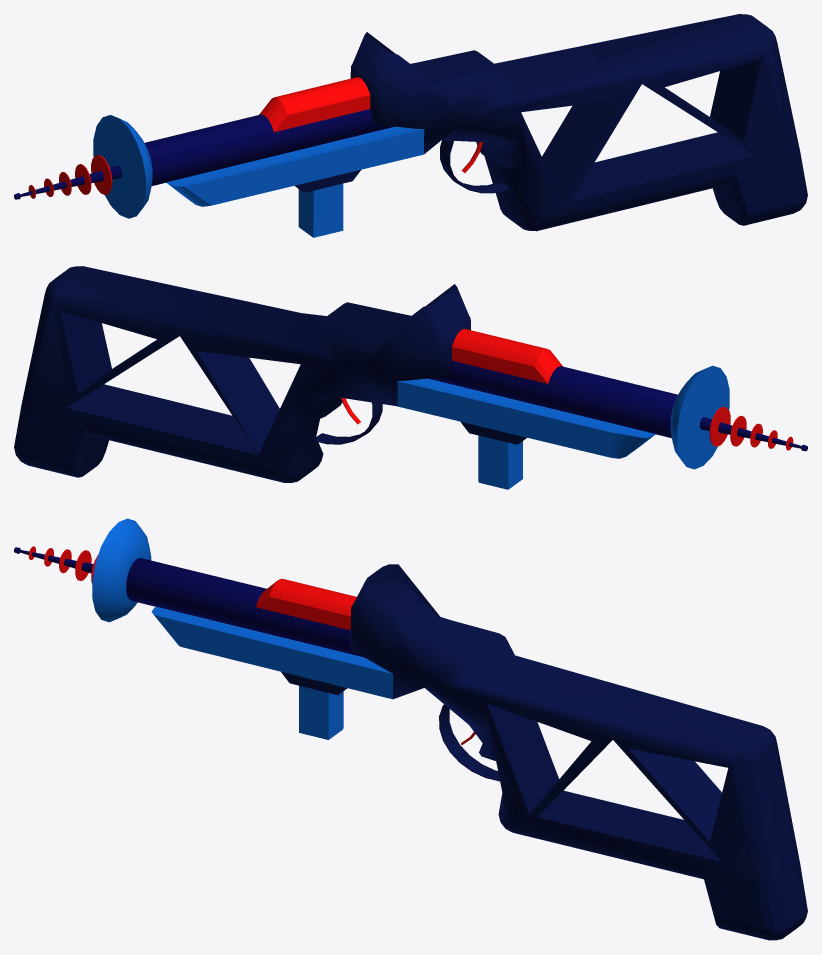
File: arme1.FBX
The picture shows the model from 3 angles, top to bottom: view 1: azimuth 30°, elevation 25°; view 2: azimuth 150°, elevation 25°; view 3: azimuth 330°, elevation 25°; orthographic projection.
Parts seen in each view (by area): view 1: BoîteChanfrein001, Cylindre001, Cylindre003, Tore001, Cylindre008; view 2: BoîteChanfrein001, Cylindre001, Cylindre003, Tore001, Cylindre008; view 3: BoîteChanfrein001, Cylindre001, Cylindre003, Tore001.
Part boxes in pixels (box(x1,y1,x2,y2)): BoîteChanfrein001: box(166, 14, 807, 237); Cylindre001: box(14, 77, 394, 199); Cylindre003: box(93, 115, 152, 218); Tore001: box(440, 140, 510, 193); Cylindre008: box(91, 155, 112, 194); BoîteChanfrein001: box(14, 266, 655, 489); Cylindre001: box(428, 328, 807, 451); Cylindre003: box(670, 365, 729, 469); Tore001: box(314, 398, 382, 444); Cylindre008: box(709, 406, 730, 446); BoîteChanfrein001: box(151, 564, 807, 940); Cylindre001: box(14, 547, 364, 657); Cylindre003: box(92, 518, 151, 622); Tore001: box(439, 704, 499, 781).
Size of the model in its own units: 92.98 by 29.77 by 10.78.
